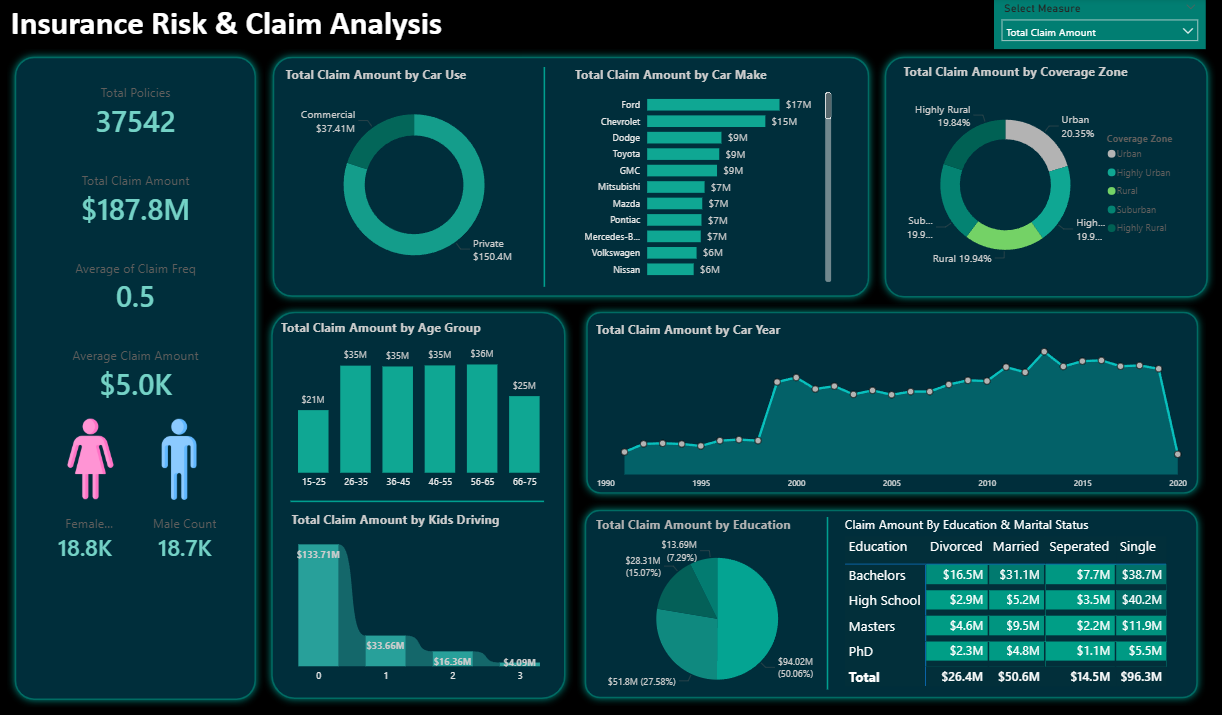

Layout of this report page (visuals, bound fields, positions):
{"tool":"powerbi","page":{"name":"Page 1","canvas":[1600,950],"ordinal":0},"visuals":[{"type":"textbox","box":[27.9,0,662.6,65.9],"z":0},{"type":"shape","box":[27.9,65.9,331.3,850.2],"z":1000},{"type":"cardVisual","fields":{"Data":["Measures Created.Total Policies","Measures Created.Total Claim Amount","Avg(insurance_data_car.Claim Freq)","Measures Created.Average Claim Amount"]},"box":[57.2,88.5,270.6,457.9],"z":3000},{"type":"cardVisual","fields":{"Data":["Measures Created.Female Count","Measures Created.Male Count"]},"box":[62.4,642.6,260.2,109.3],"z":4000},{"type":"image","box":[78,517.7,114.5,156.1],"z":5000},{"type":"image","box":[192.5,530.7,115,130],"z":6000},{"type":"slicer","fields":{"Values":["Select Measure.Select Measure"]},"box":[1301.1,0,273,65.8],"z":7000},{"type":"shape","box":[359.5,65.5,790,330],"z":8000},{"type":"donutChart","fields":{"Y":["Measures Created.Total Claim Amount"],"Category":["insurance_data_car.Car Use"]},"box":[381.3,87.4,341.6,286],"z":9000},{"type":"clusteredBarChart","fields":{"Y":["Measures Created.Total Claim Amount"],"Category":["insurance_data_car.Car Make"]},"box":[755.1,87.1,340.8,284.6],"z":10000},{"type":"shape","box":[1149.8,65,437.1,330.8],"z":11000},{"type":"donutChart","fields":{"Y":["Measures Created.Total Claim Amount"],"Category":["insurance_data_car.Coverage Zone"]},"box":[1179.7,83.5,374.7,293.7],"z":12000},{"type":"shape","box":[358.3,395.7,400,519.8],"z":13000},{"type":"clusteredColumnChart","fields":{"Y":["Measures Created.Total Claim Amount"],"Category":["insurance_data_car.Age Group"]},"box":[374.9,414.6,366.9,228.1],"z":14000},{"type":"ribbonChart","fields":{"Y":["Measures Created.Total Claim Amount"],"Category":["insurance_data_car.Kids Driving"]},"box":[388.8,662.5,339.2,230.1],"z":15000},{"type":"shape","box":[765.3,395.5,810,255],"z":16000},{"type":"areaChart","fields":{"Y":["Measures Created.Total Claim Amount"],"Category":["insurance_data_car.Car Year"]},"box":[782.8,415.3,772.7,226.5],"z":17000},{"type":"shape","box":[762.9,650.6,811.3,263.3],"z":18000},{"type":"pieChart","fields":{"Y":["Measures Created.Total Claim Amount"],"Category":["insurance_data_car.Education"]},"box":[783.1,668.6,322.6,244.6],"z":19000},{"type":"pivotTable","title":"Claim Amount By Education & Marital Status","fields":{"Rows":["insurance_data_car.Education"],"Columns":["insurance_data_car.Marital Status"],"Values":["Measures Created.Total Claim Amount"]},"box":[1103.8,668.4,450.6,248.1],"z":20000},{"type":"shape","box":[702.9,89.5,35.8,283.7],"z":21000},{"type":"shape","box":[1068.8,669.9,34.9,222.7],"z":22000},{"type":"shape","box":[392.7,642.7,327.3,13.9],"z":23000}]}

Visuals, with their boxes in screenshot pixels (x1, y1, x2, y2), scaled from the page's 1600x950 canvas onto the 1222x715 screenshot:
textbox: <region>21, 0, 527, 50</region>
shape: <region>21, 50, 274, 689</region>
cardVisual - Measures Created.Total Policies x Measures Created.Total Claim Amount: <region>44, 67, 250, 411</region>
cardVisual - Measures Created.Female Count x Measures Created.Male Count: <region>48, 484, 246, 566</region>
image: <region>60, 390, 147, 507</region>
image: <region>147, 399, 235, 497</region>
slicer - Select Measure.Select Measure: <region>994, 0, 1202, 50</region>
shape: <region>275, 49, 878, 298</region>
donutChart - Measures Created.Total Claim Amount x insurance_data_car.Car Use: <region>291, 66, 552, 281</region>
clusteredBarChart - Measures Created.Total Claim Amount x insurance_data_car.Car Make: <region>577, 66, 837, 280</region>
shape: <region>878, 49, 1212, 298</region>
donutChart - Measures Created.Total Claim Amount x insurance_data_car.Coverage Zone: <region>901, 63, 1187, 284</region>
shape: <region>274, 298, 579, 689</region>
clusteredColumnChart - Measures Created.Total Claim Amount x insurance_data_car.Age Group: <region>286, 312, 567, 484</region>
ribbonChart - Measures Created.Total Claim Amount x insurance_data_car.Kids Driving: <region>297, 499, 556, 672</region>
shape: <region>584, 298, 1203, 490</region>
areaChart - Measures Created.Total Claim Amount x insurance_data_car.Car Year: <region>598, 313, 1188, 483</region>
shape: <region>583, 490, 1202, 688</region>
pieChart - Measures Created.Total Claim Amount x insurance_data_car.Education: <region>598, 503, 844, 687</region>
"Claim Amount By Education & Marital Status" pivotTable: <region>843, 503, 1187, 690</region>
shape: <region>537, 67, 564, 281</region>
shape: <region>816, 504, 843, 672</region>
shape: <region>300, 484, 550, 494</region>
